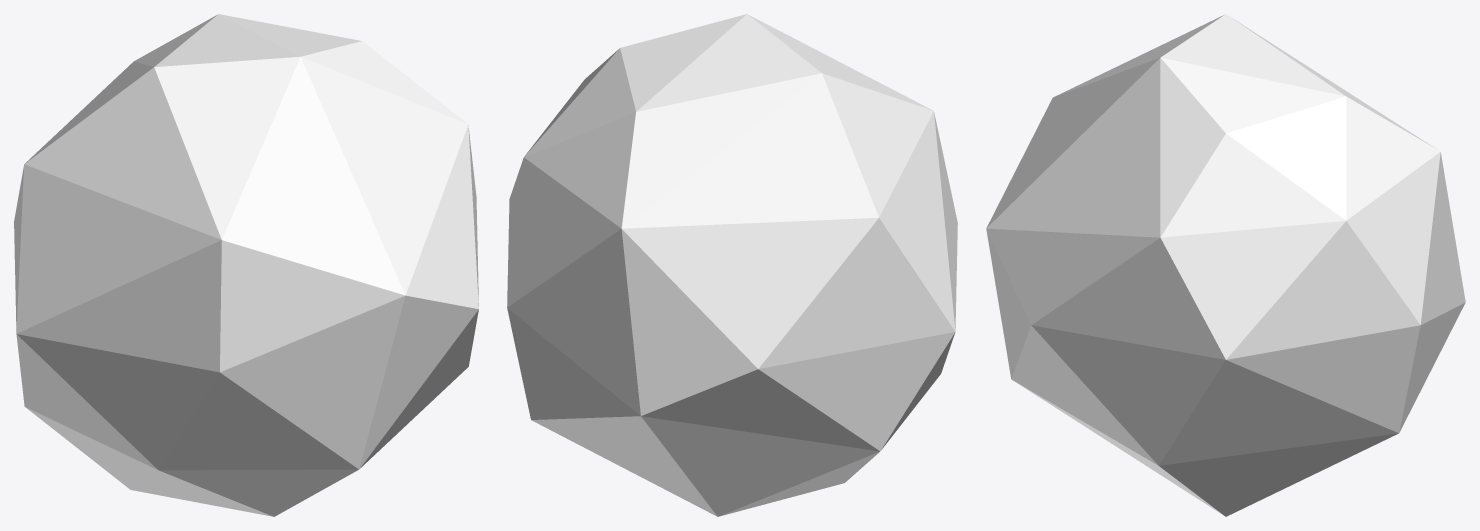
The model's file is modSmokeTires.fbx.
3 renders of one model, left to right at view 1: azimuth 30°, elevation 25°; view 2: azimuth 150°, elevation 25°; view 3: azimuth 270°, elevation 25°, orthographic. The views are drawn at different scales.
Visible parts, largest first — view 1: modSmokeTires; view 2: modSmokeTires; view 3: modSmokeTires.
Boxes of the visible parts, x1=… form: modSmokeTires: x1=14, y1=14, x2=478, y2=516; modSmokeTires: x1=507, y1=14, x2=957, y2=516; modSmokeTires: x1=986, y1=14, x2=1465, y2=516.
Size of the model in its own units: 0.7638 by 0.7275 by 0.729.
